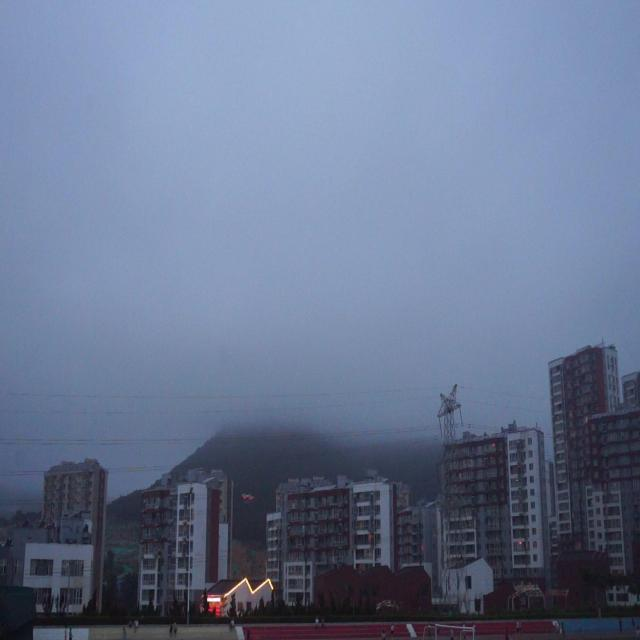drone: (238, 484, 256, 506)
